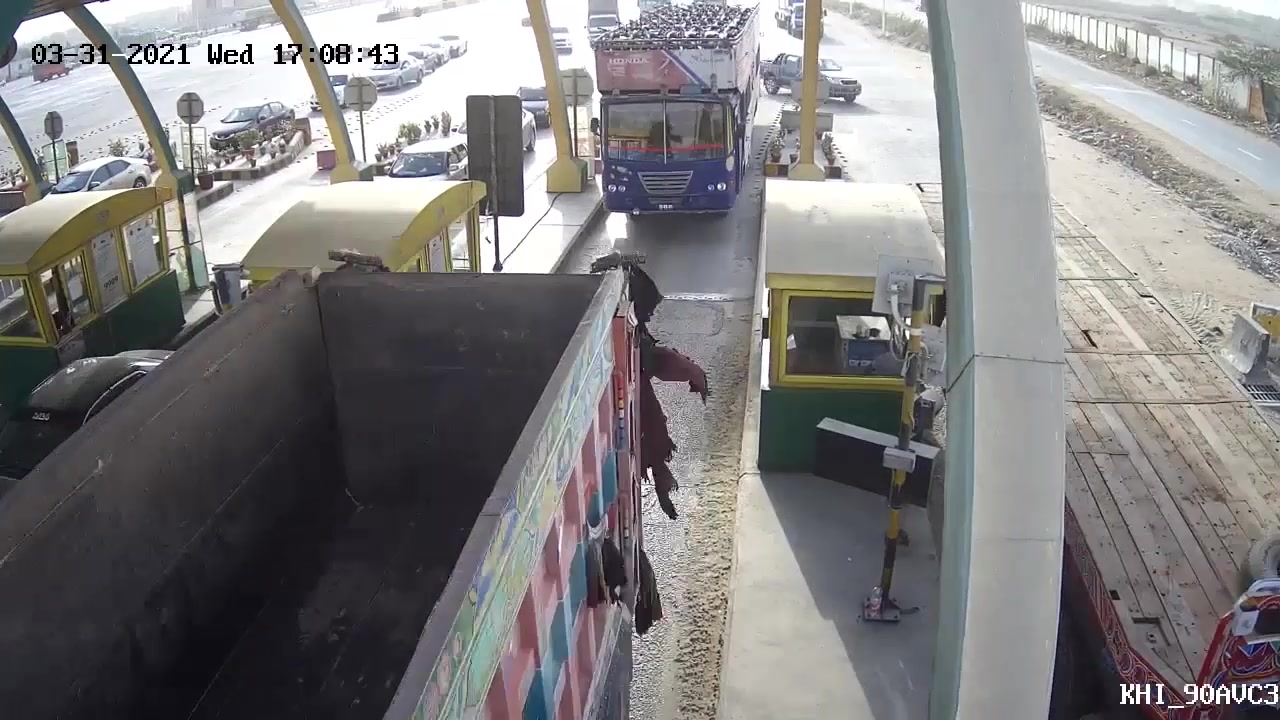F5: (573, 1, 762, 222)
